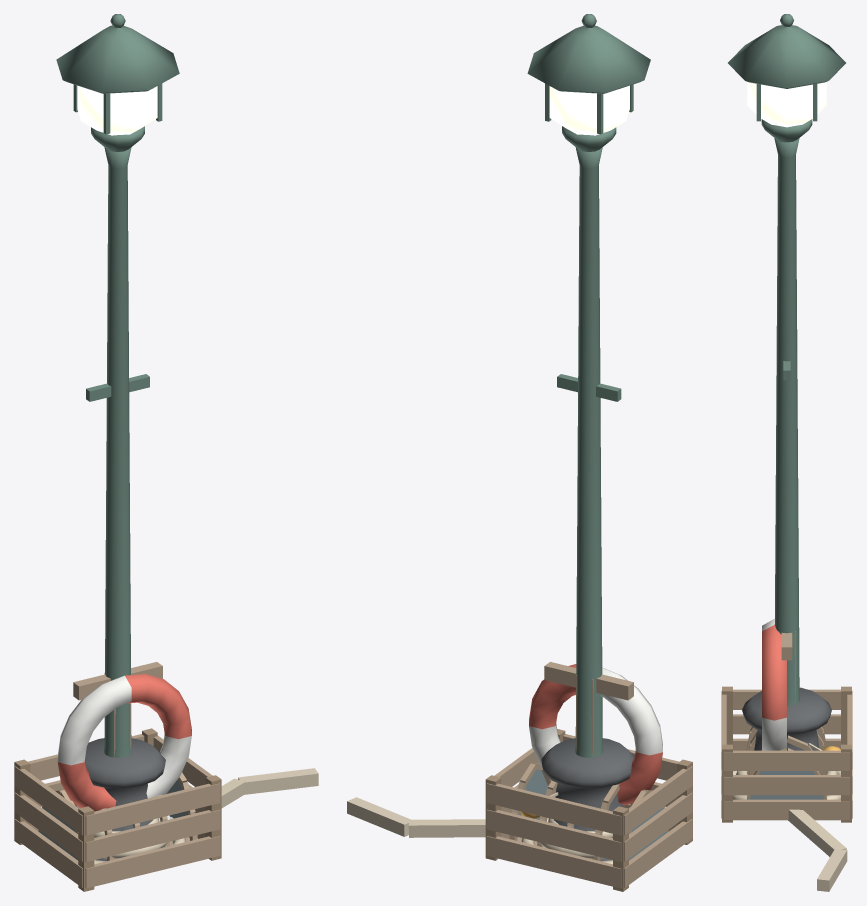
The model's file is dock_props.glb.
The picture shows the model from 3 angles, left to right: view 1: azimuth 30°, elevation 25°; view 2: azimuth 150°, elevation 25°; view 3: azimuth 270°, elevation 25°; orthographic projection. The views are drawn at different scales.
Visible parts, largest first — view 1: dp_lamp_mesh, dp_crate_mesh, dp_ring_mesh, dp_bollard_mesh, dp_rope_mesh, dp_pot_mesh; view 2: dp_lamp_mesh, dp_crate_mesh, dp_ring_mesh, dp_bollard_mesh, dp_rope_mesh, dp_pot_mesh; view 3: dp_lamp_mesh, dp_crate_mesh, dp_ring_mesh, dp_bollard_mesh, dp_rope_mesh, dp_pot_mesh.
Boxes of the visible parts, <box> form: dp_lamp_mesh: <box>56,14,179,757</box>; dp_crate_mesh: <box>14,728,221,891</box>; dp_ring_mesh: <box>57,662,191,811</box>; dp_bollard_mesh: <box>85,738,165,861</box>; dp_rope_mesh: <box>94,768,318,864</box>; dp_pot_mesh: <box>38,772,197,861</box>; dp_lamp_mesh: <box>527,14,650,757</box>; dp_crate_mesh: <box>485,729,692,891</box>; dp_ring_mesh: <box>529,661,662,805</box>; dp_bollard_mesh: <box>541,738,634,861</box>; dp_rope_mesh: <box>347,797,612,864</box>; dp_pot_mesh: <box>509,762,668,861</box>; dp_lamp_mesh: <box>728,14,845,706</box>; dp_crate_mesh: <box>721,686,852,822</box>; dp_ring_mesh: <box>762,618,795,750</box>; dp_bollard_mesh: <box>742,687,831,750</box>; dp_rope_mesh: <box>733,771,847,891</box>; dp_pot_mesh: <box>746,726,840,799</box>.
Bounding box in the file's own units: 1.72 × 4.76 × 0.73.
